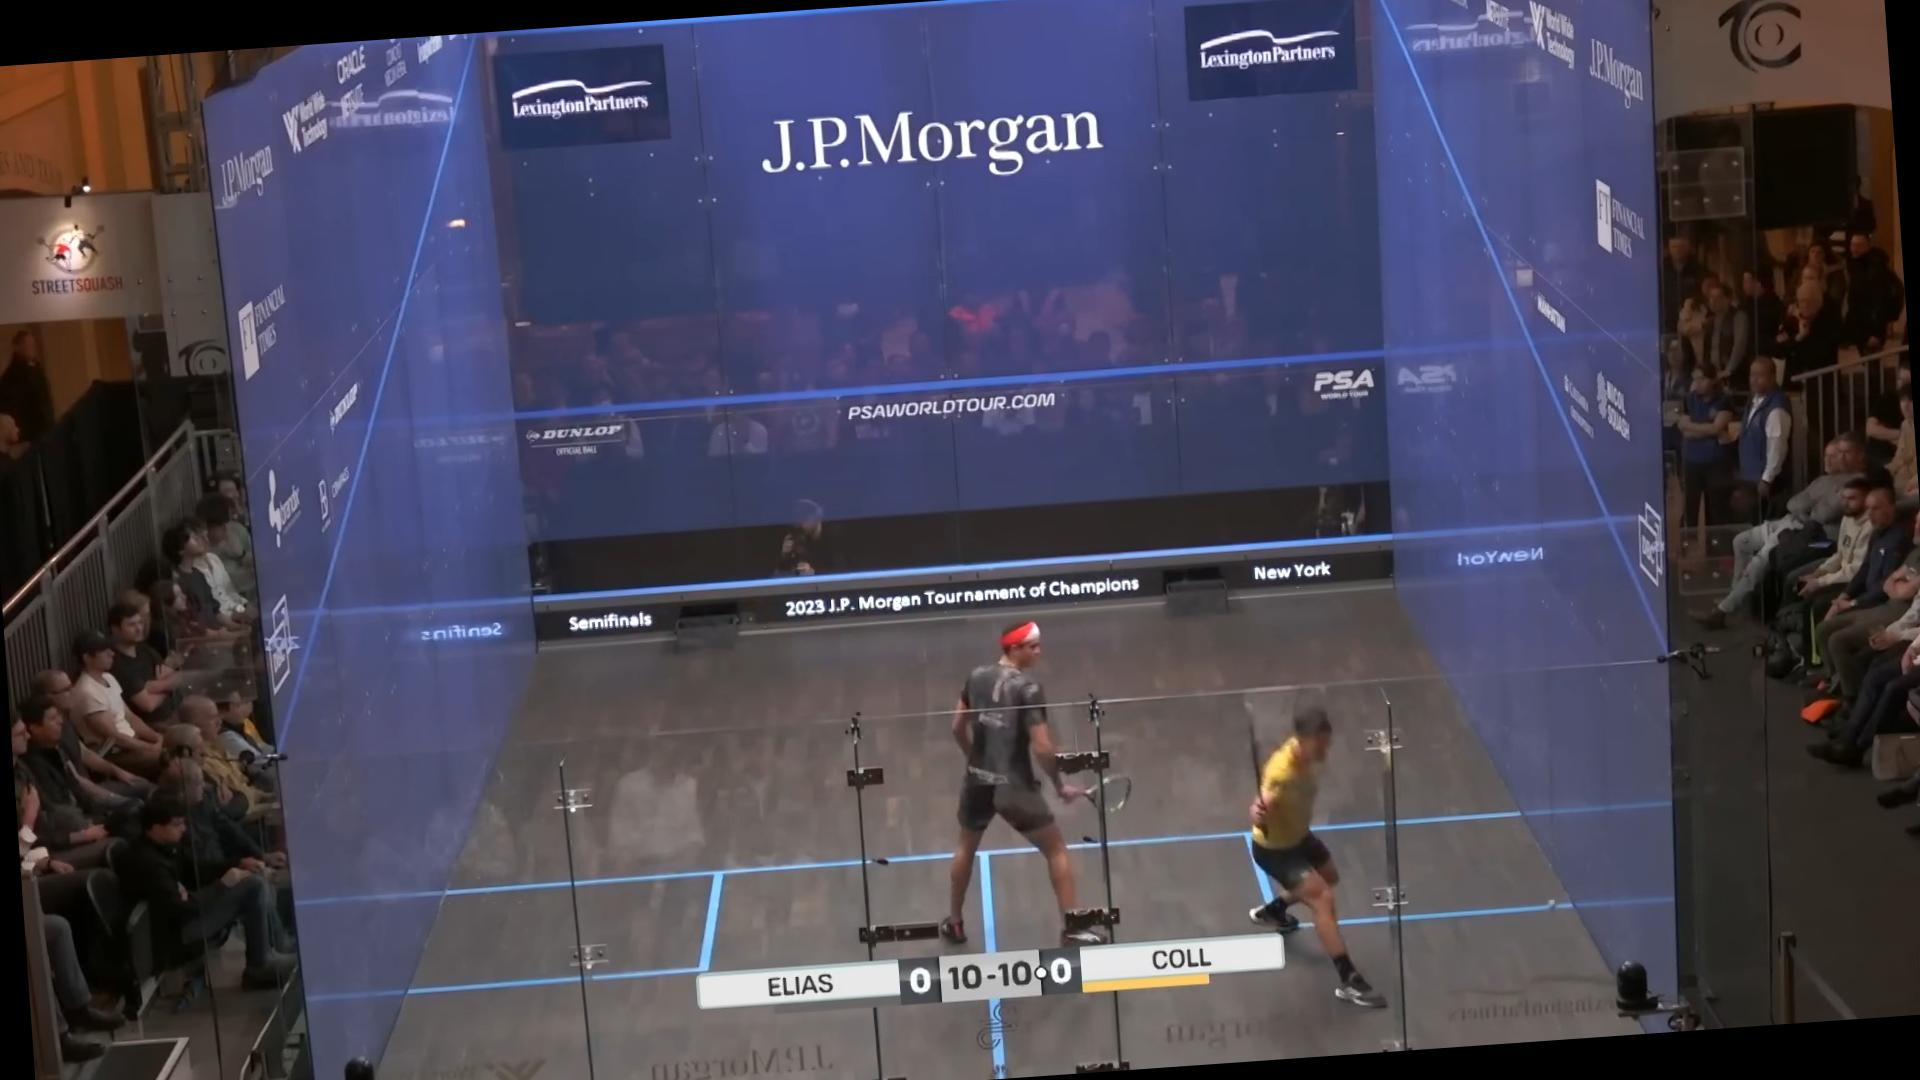Racket: (1228, 688, 1283, 847), (1059, 764, 1142, 822)
